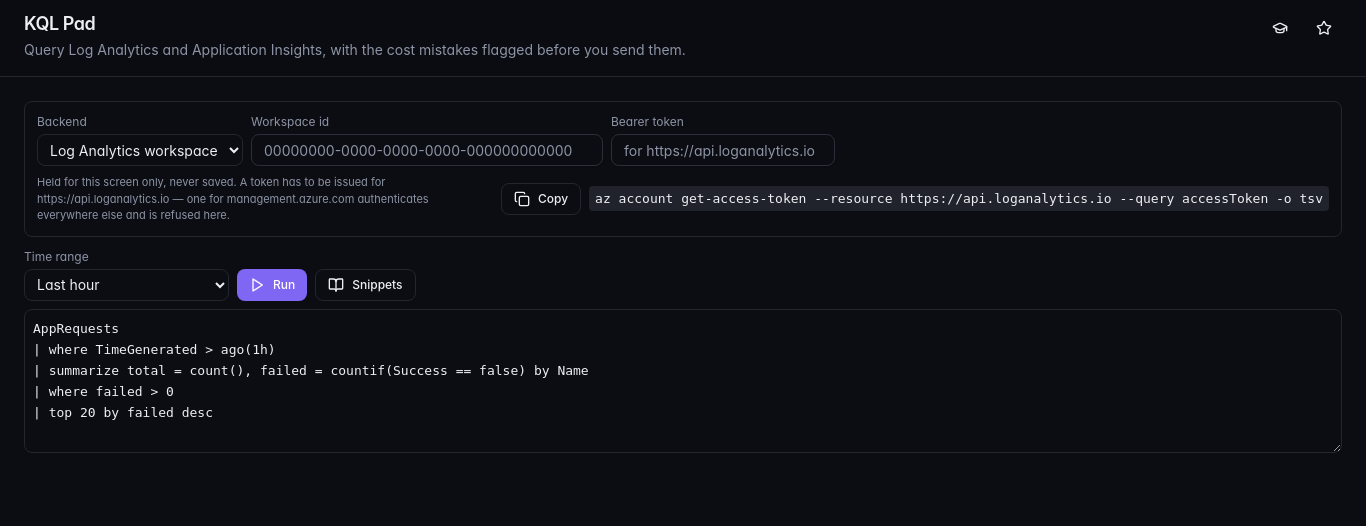
Test: KqlPad › refuses a resource name in place of a workspace GUID
Type "prod-logs" into the field labelled "Workspace id".
click(427, 150); type("prod-logs")  # box 251,134 -> 603,166
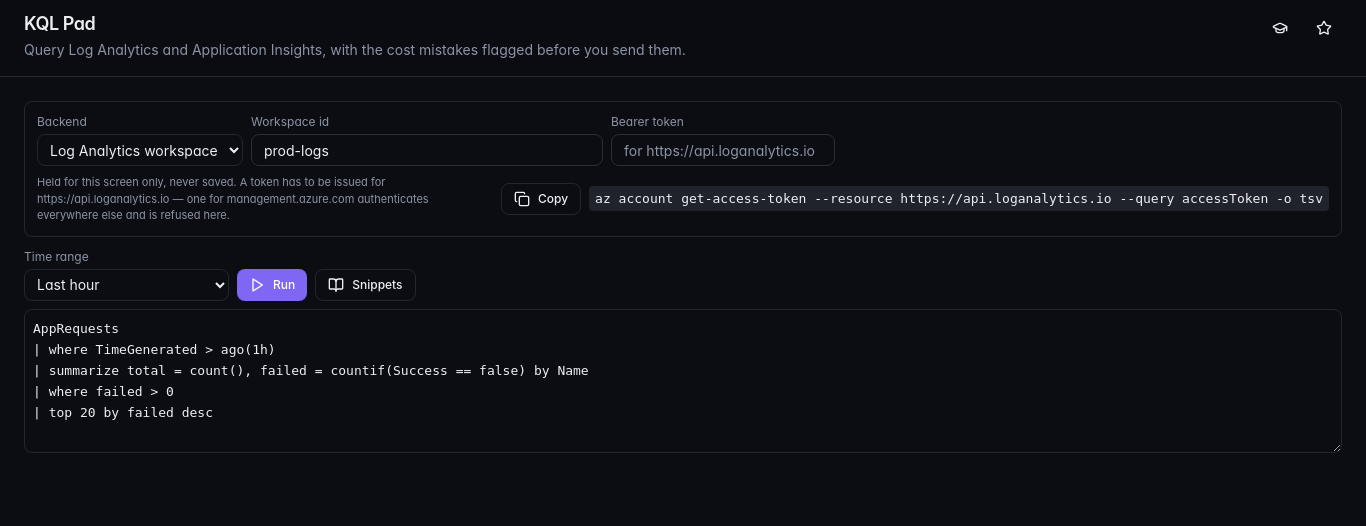
Type "t" into the password field labelled "Bearer token".
click(723, 150); type("t")  # box 611,134 -> 835,166
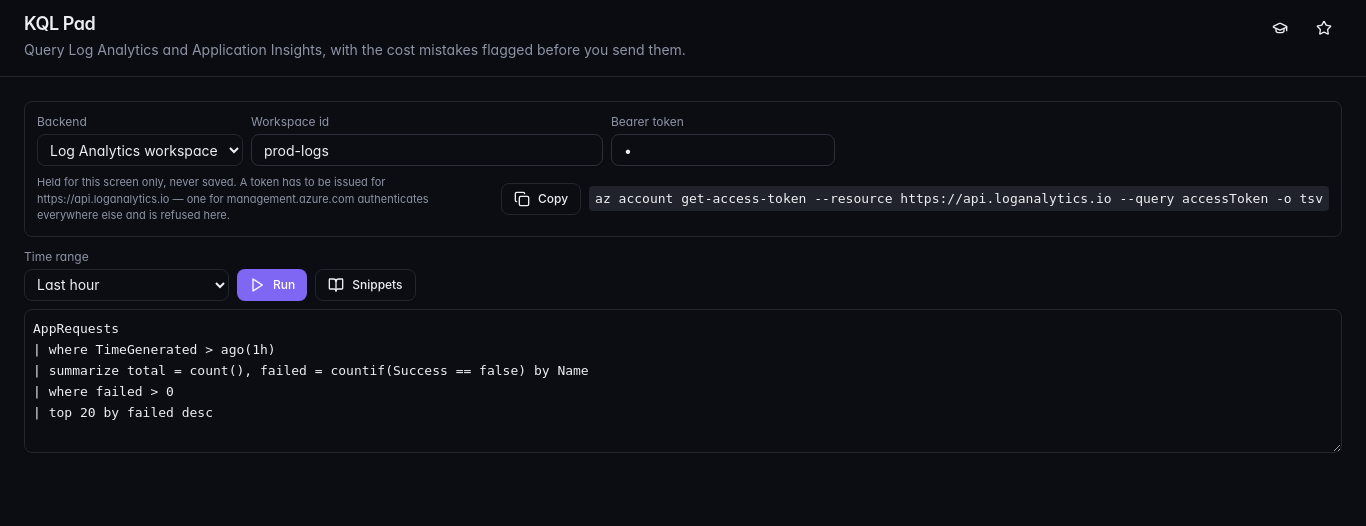
Click the button "Run".
click(272, 284)  # box 237,268 -> 307,300
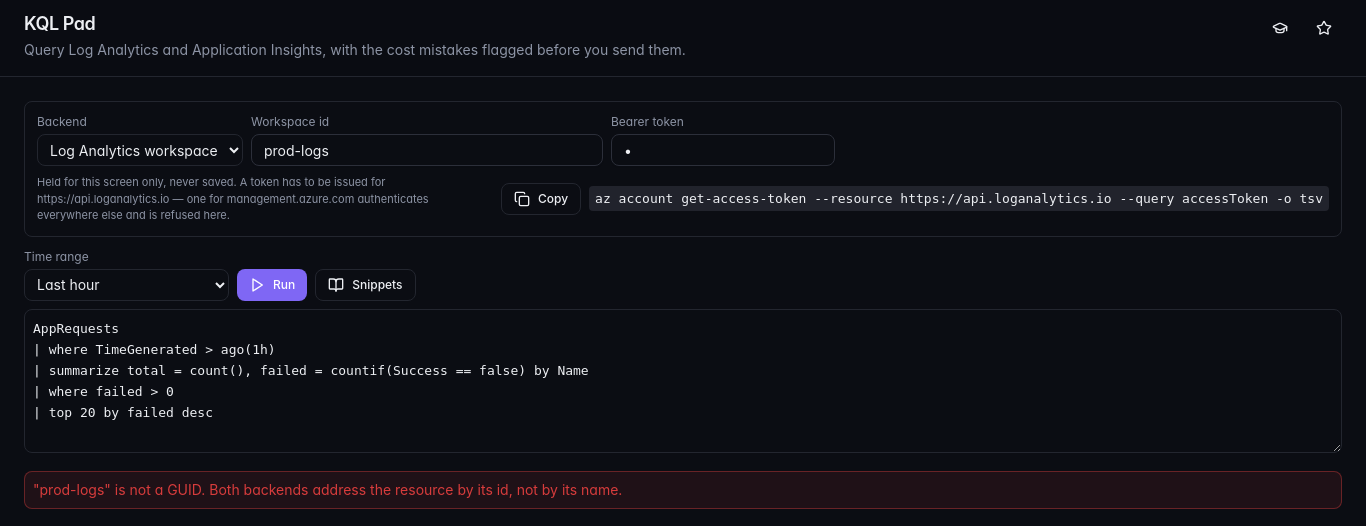
expect the text "not a GUID" is shown: met, box 33,480 -> 622,498
